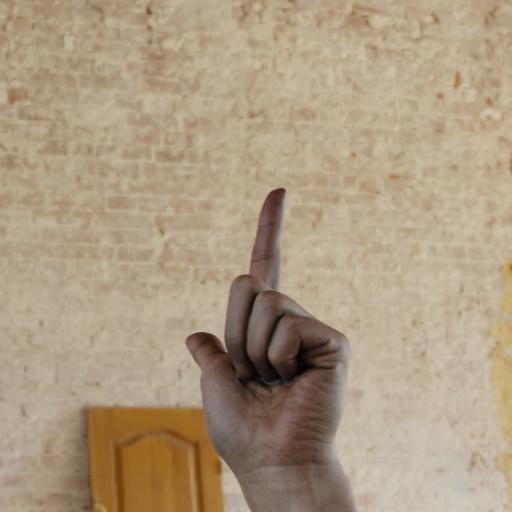L: (146, 177, 360, 476)
